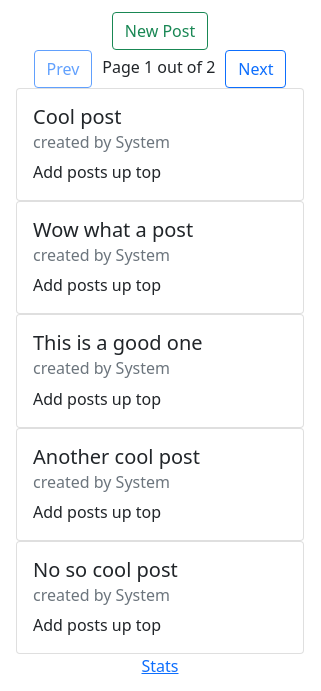
Test case: check navigation buttons movements
Expected: the text "Cool post" is shown, [33,103,121,130]
What coordinates should you click on to do the following:
click the button "Next"
I would click on:
 (256, 69)
Its box is [225,50,286,88].
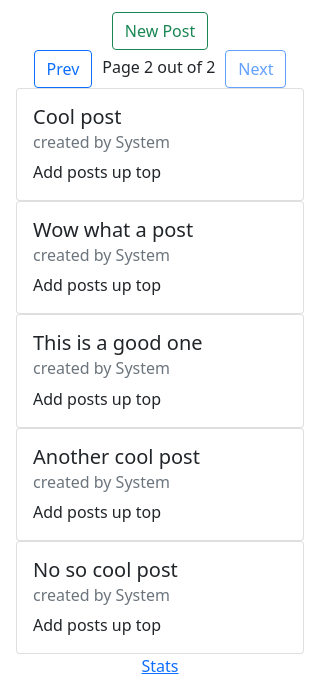
Now the text "Page 2 out of 2" is shown, box [102,56,215,78]
